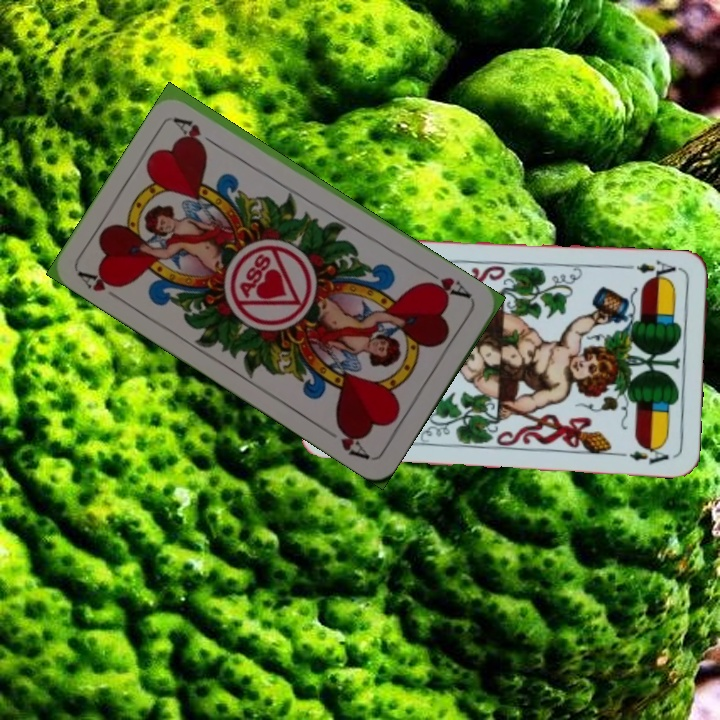EA: (632, 256, 684, 284)
HA: (74, 266, 128, 306), (418, 266, 475, 302)
